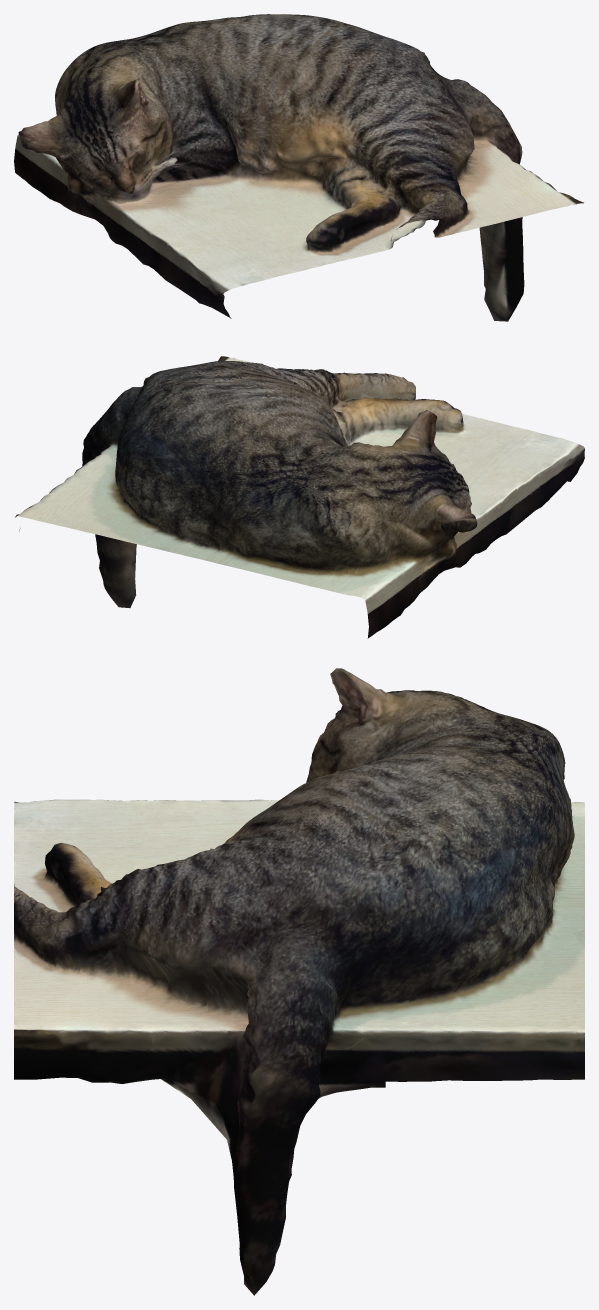
File: sleeping_cat_on_the_table_-_3d_scan.glb
3 views of the same model, one above another, from view 1: azimuth 30°, elevation 25°; view 2: azimuth 150°, elevation 25°; view 3: azimuth 270°, elevation 25° (orthographic). The views are drawn at different scales.
Visible parts, largest first — view 1: marg 2_0; view 2: marg 2_0; view 3: marg 2_0.
Part boxes in pixels (x1,y1,x2,y2): marg 2_0: (14, 14, 583, 321); marg 2_0: (15, 356, 584, 638); marg 2_0: (14, 668, 584, 1295).
Bounding box in the file's own units: 0.525 × 0.3434 × 0.4384.
Materials: 1 (1 with a texture image).
